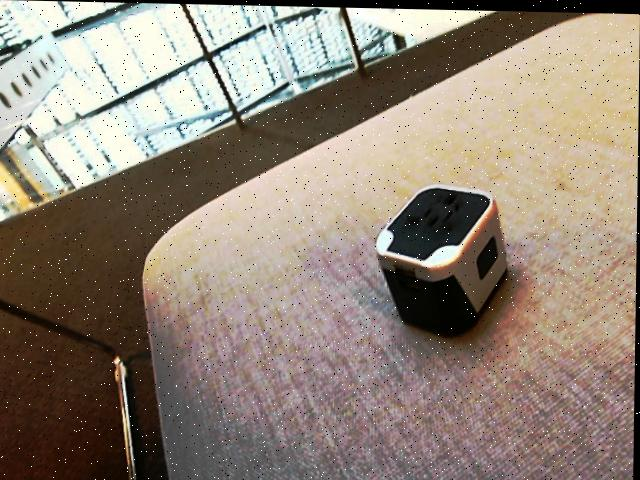adapter: (374, 179, 510, 335)
